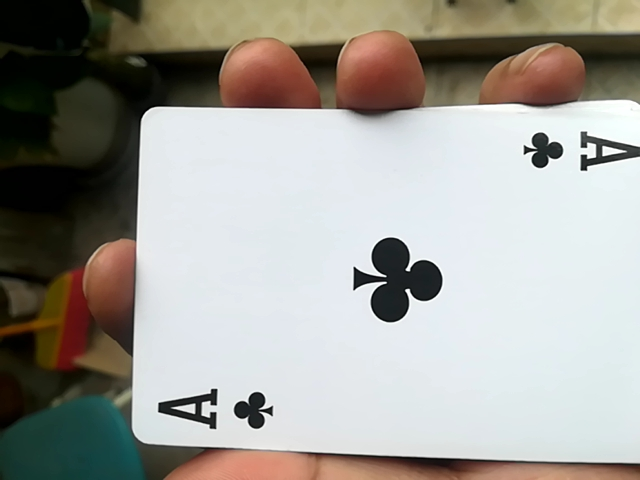mh a: (117, 113, 633, 477)
